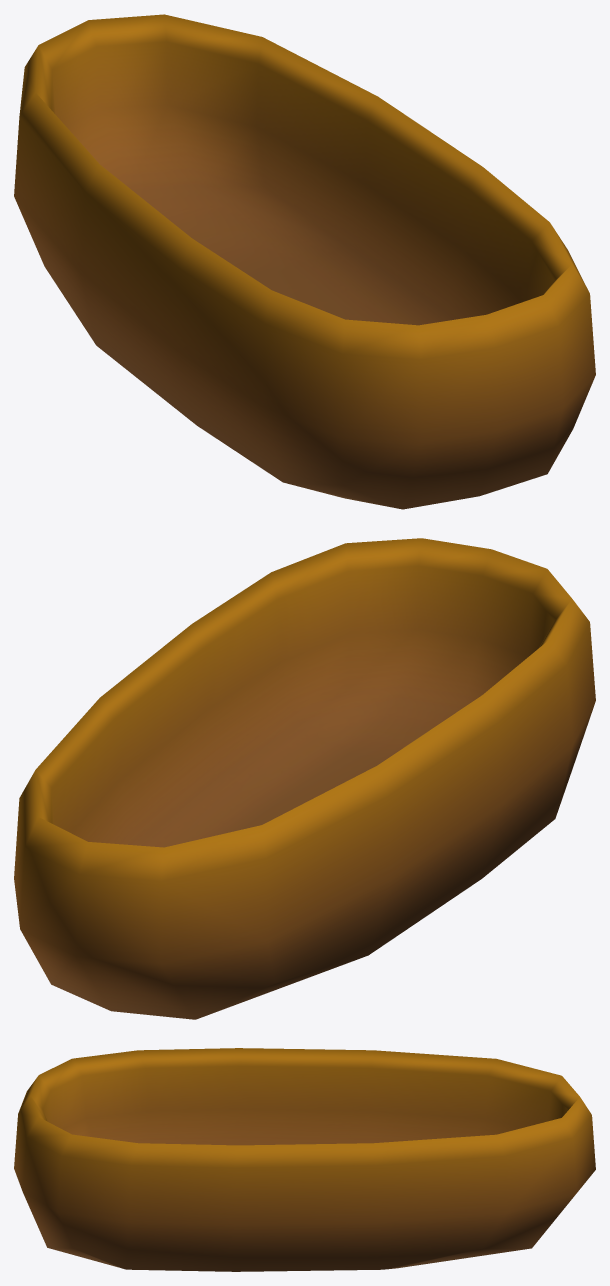
Rendered from SM_Boat.fbx.
3 views of the same model, one above another, from view 1: azimuth 30°, elevation 25°; view 2: azimuth 150°, elevation 25°; view 3: azimuth 270°, elevation 25° (orthographic). The views are drawn at different scales.
Parts seen in each view (by area): view 1: SM_Boat; view 2: SM_Boat; view 3: SM_Boat.
Boxes of the visible parts, x1,y1,x2,y2 form: SM_Boat: (14, 14, 595, 509); SM_Boat: (14, 538, 595, 1019); SM_Boat: (14, 1048, 595, 1271).
Bounding box in the file's own units: 152 × 94.64 × 342.
